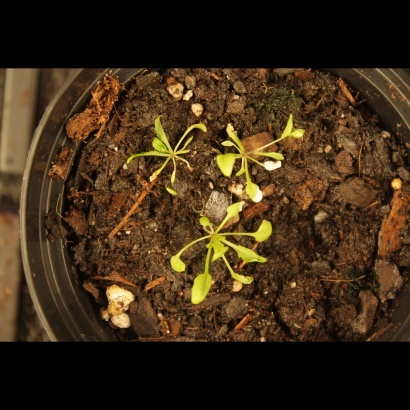leaf: (251, 212, 282, 246), (230, 243, 268, 270), (189, 271, 217, 306), (226, 263, 258, 292), (241, 179, 271, 209), (218, 196, 250, 222), (150, 114, 173, 149), (254, 146, 288, 169), (271, 111, 295, 143), (215, 151, 240, 181), (209, 235, 232, 265), (187, 115, 210, 138), (146, 137, 169, 160), (191, 209, 214, 232), (167, 253, 190, 276), (292, 125, 315, 148)
